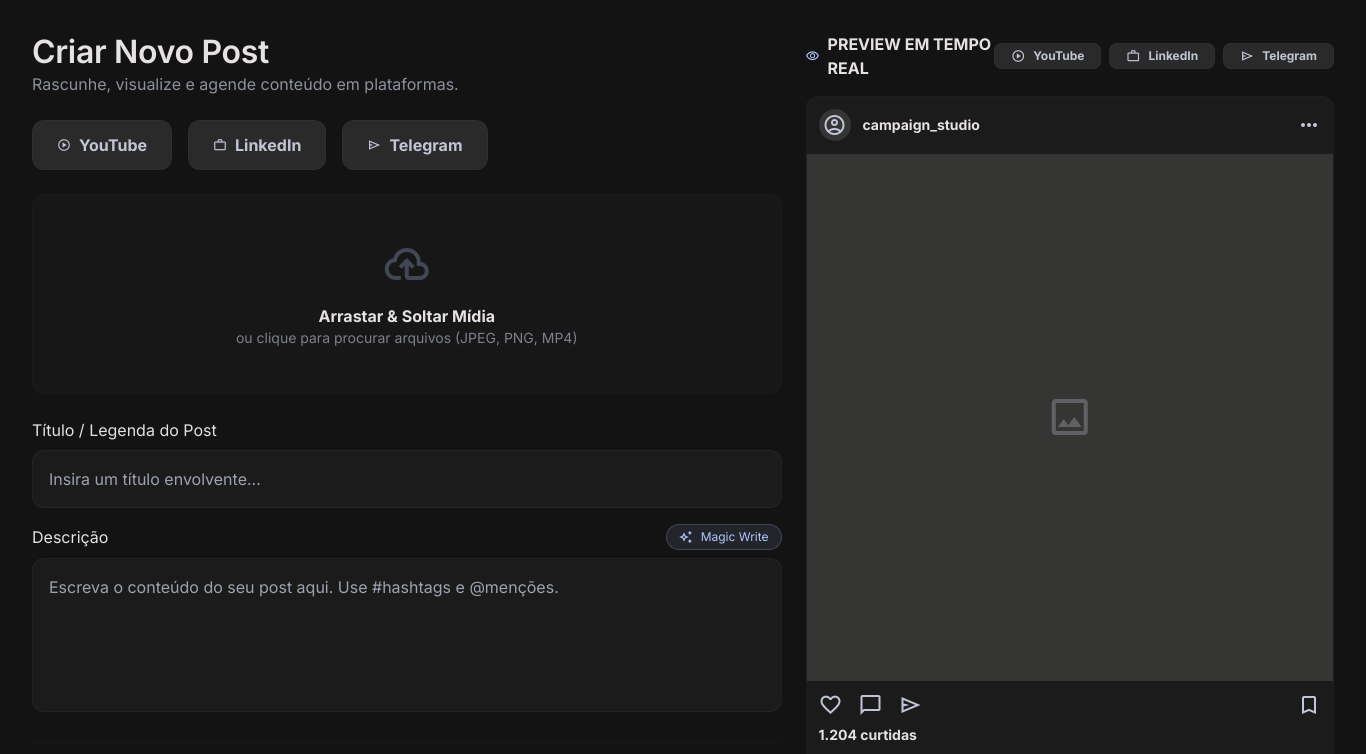
it: NewPostPage › navigates back to entry when back button is pressed
The width and height of the screenshot is (1366, 754).
Click the button "LinkedIn" below "Criar Novo Post". click: (257, 145)
box: left=188, top=120, right=326, bottom=170
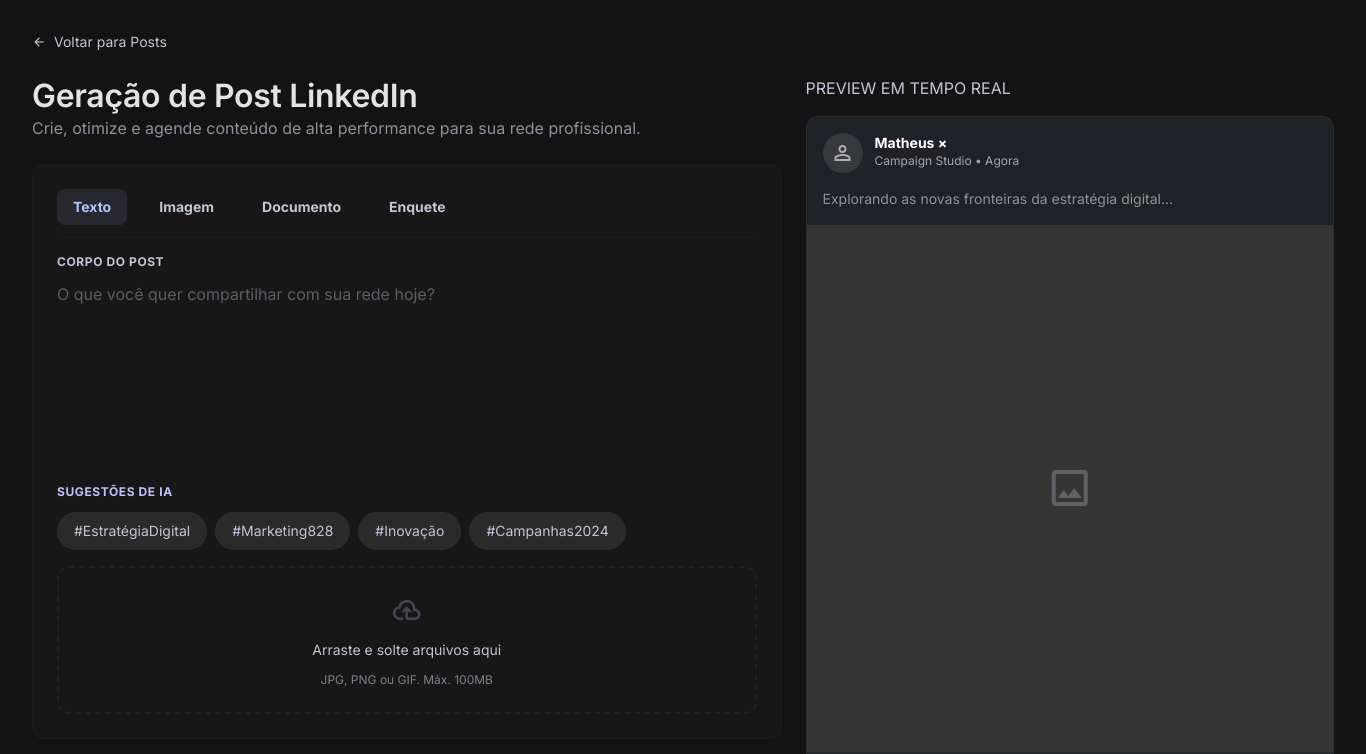
Click the button "Voltar para Posts". click: (99, 42)
box: left=32, top=32, right=167, bottom=52
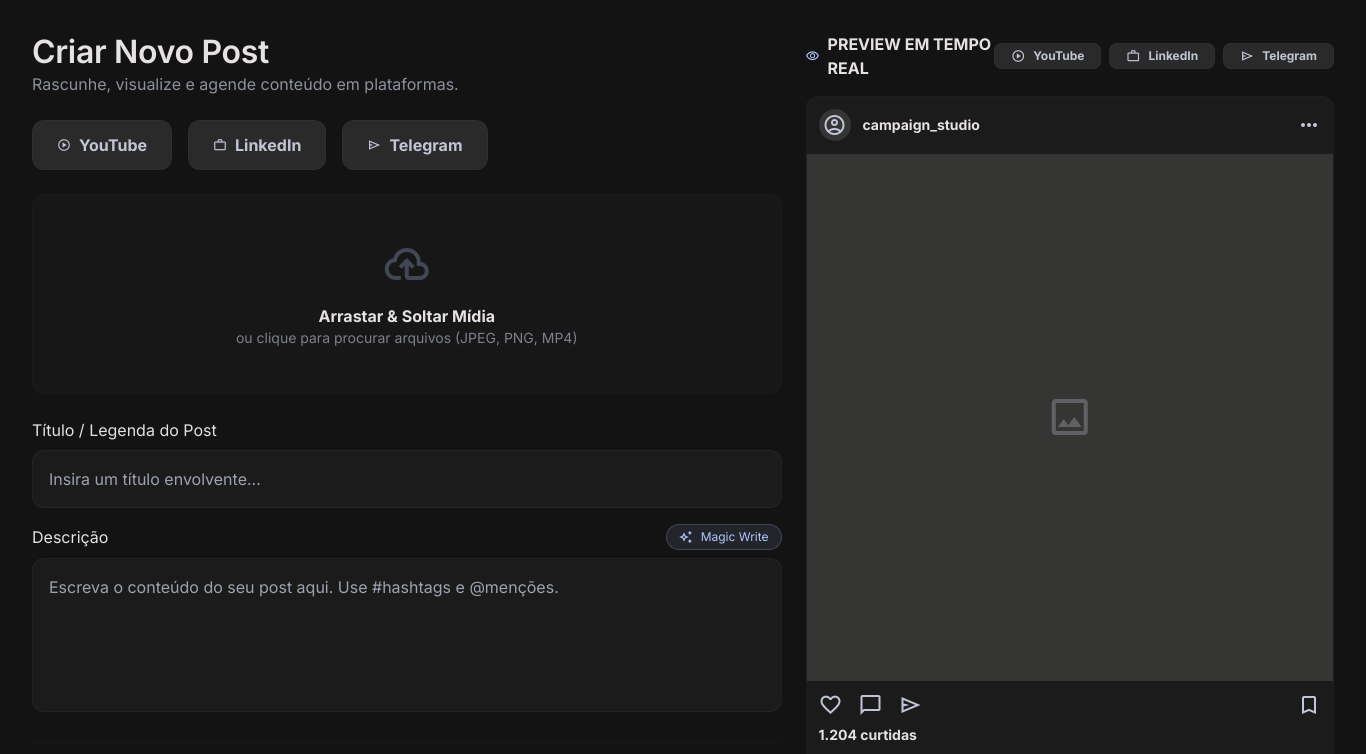
Now the heading "Criar Novo Post" is shown, box left=32, top=32, right=269, bottom=71
